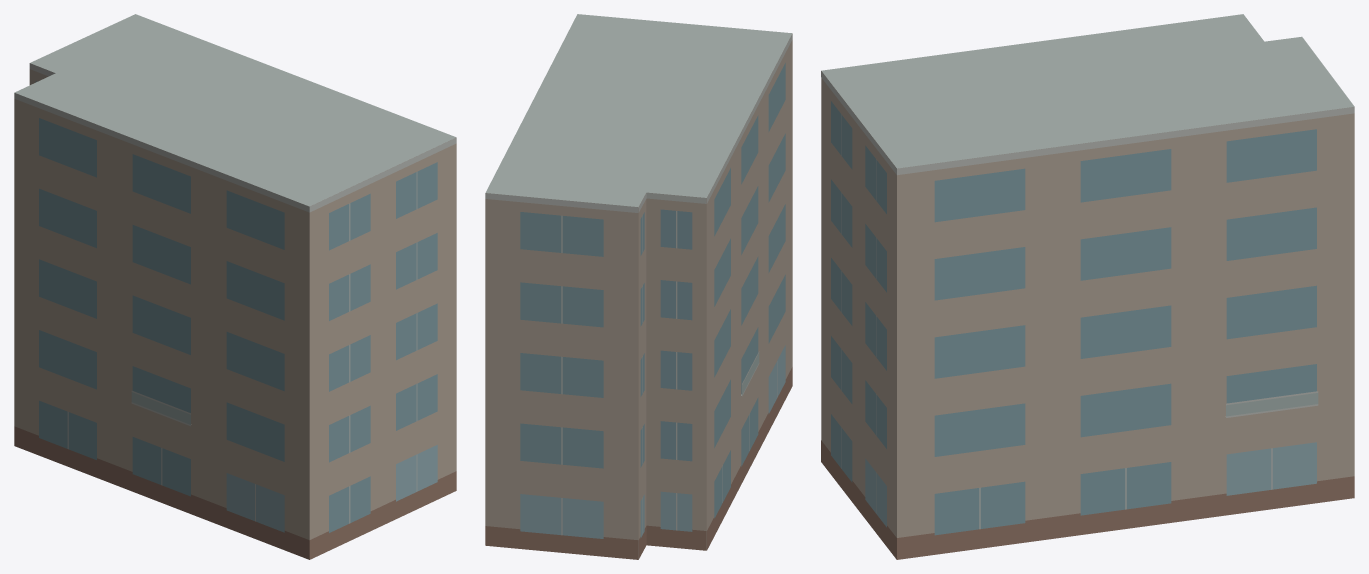
Rendered from survey-upis-32701082.glb.
3 views of the same model, side by side, from view 1: azimuth 30°, elevation 25°; view 2: azimuth 150°, elevation 25°; view 3: azimuth 270°, elevation 25° (orthographic). The views are drawn at different scales.
Parts seen in each view (by area): view 1: survey-upis-32701082.tmp; view 2: survey-upis-32701082.tmp; view 3: survey-upis-32701082.tmp.
Part boxes in pixels (<box>): survey-upis-32701082.tmp: <box>14,14,456,559</box>; survey-upis-32701082.tmp: <box>485,14,792,559</box>; survey-upis-32701082.tmp: <box>821,14,1354,559</box>.
Size of the model in its own units: 12.21 by 14.4 by 17.81.
